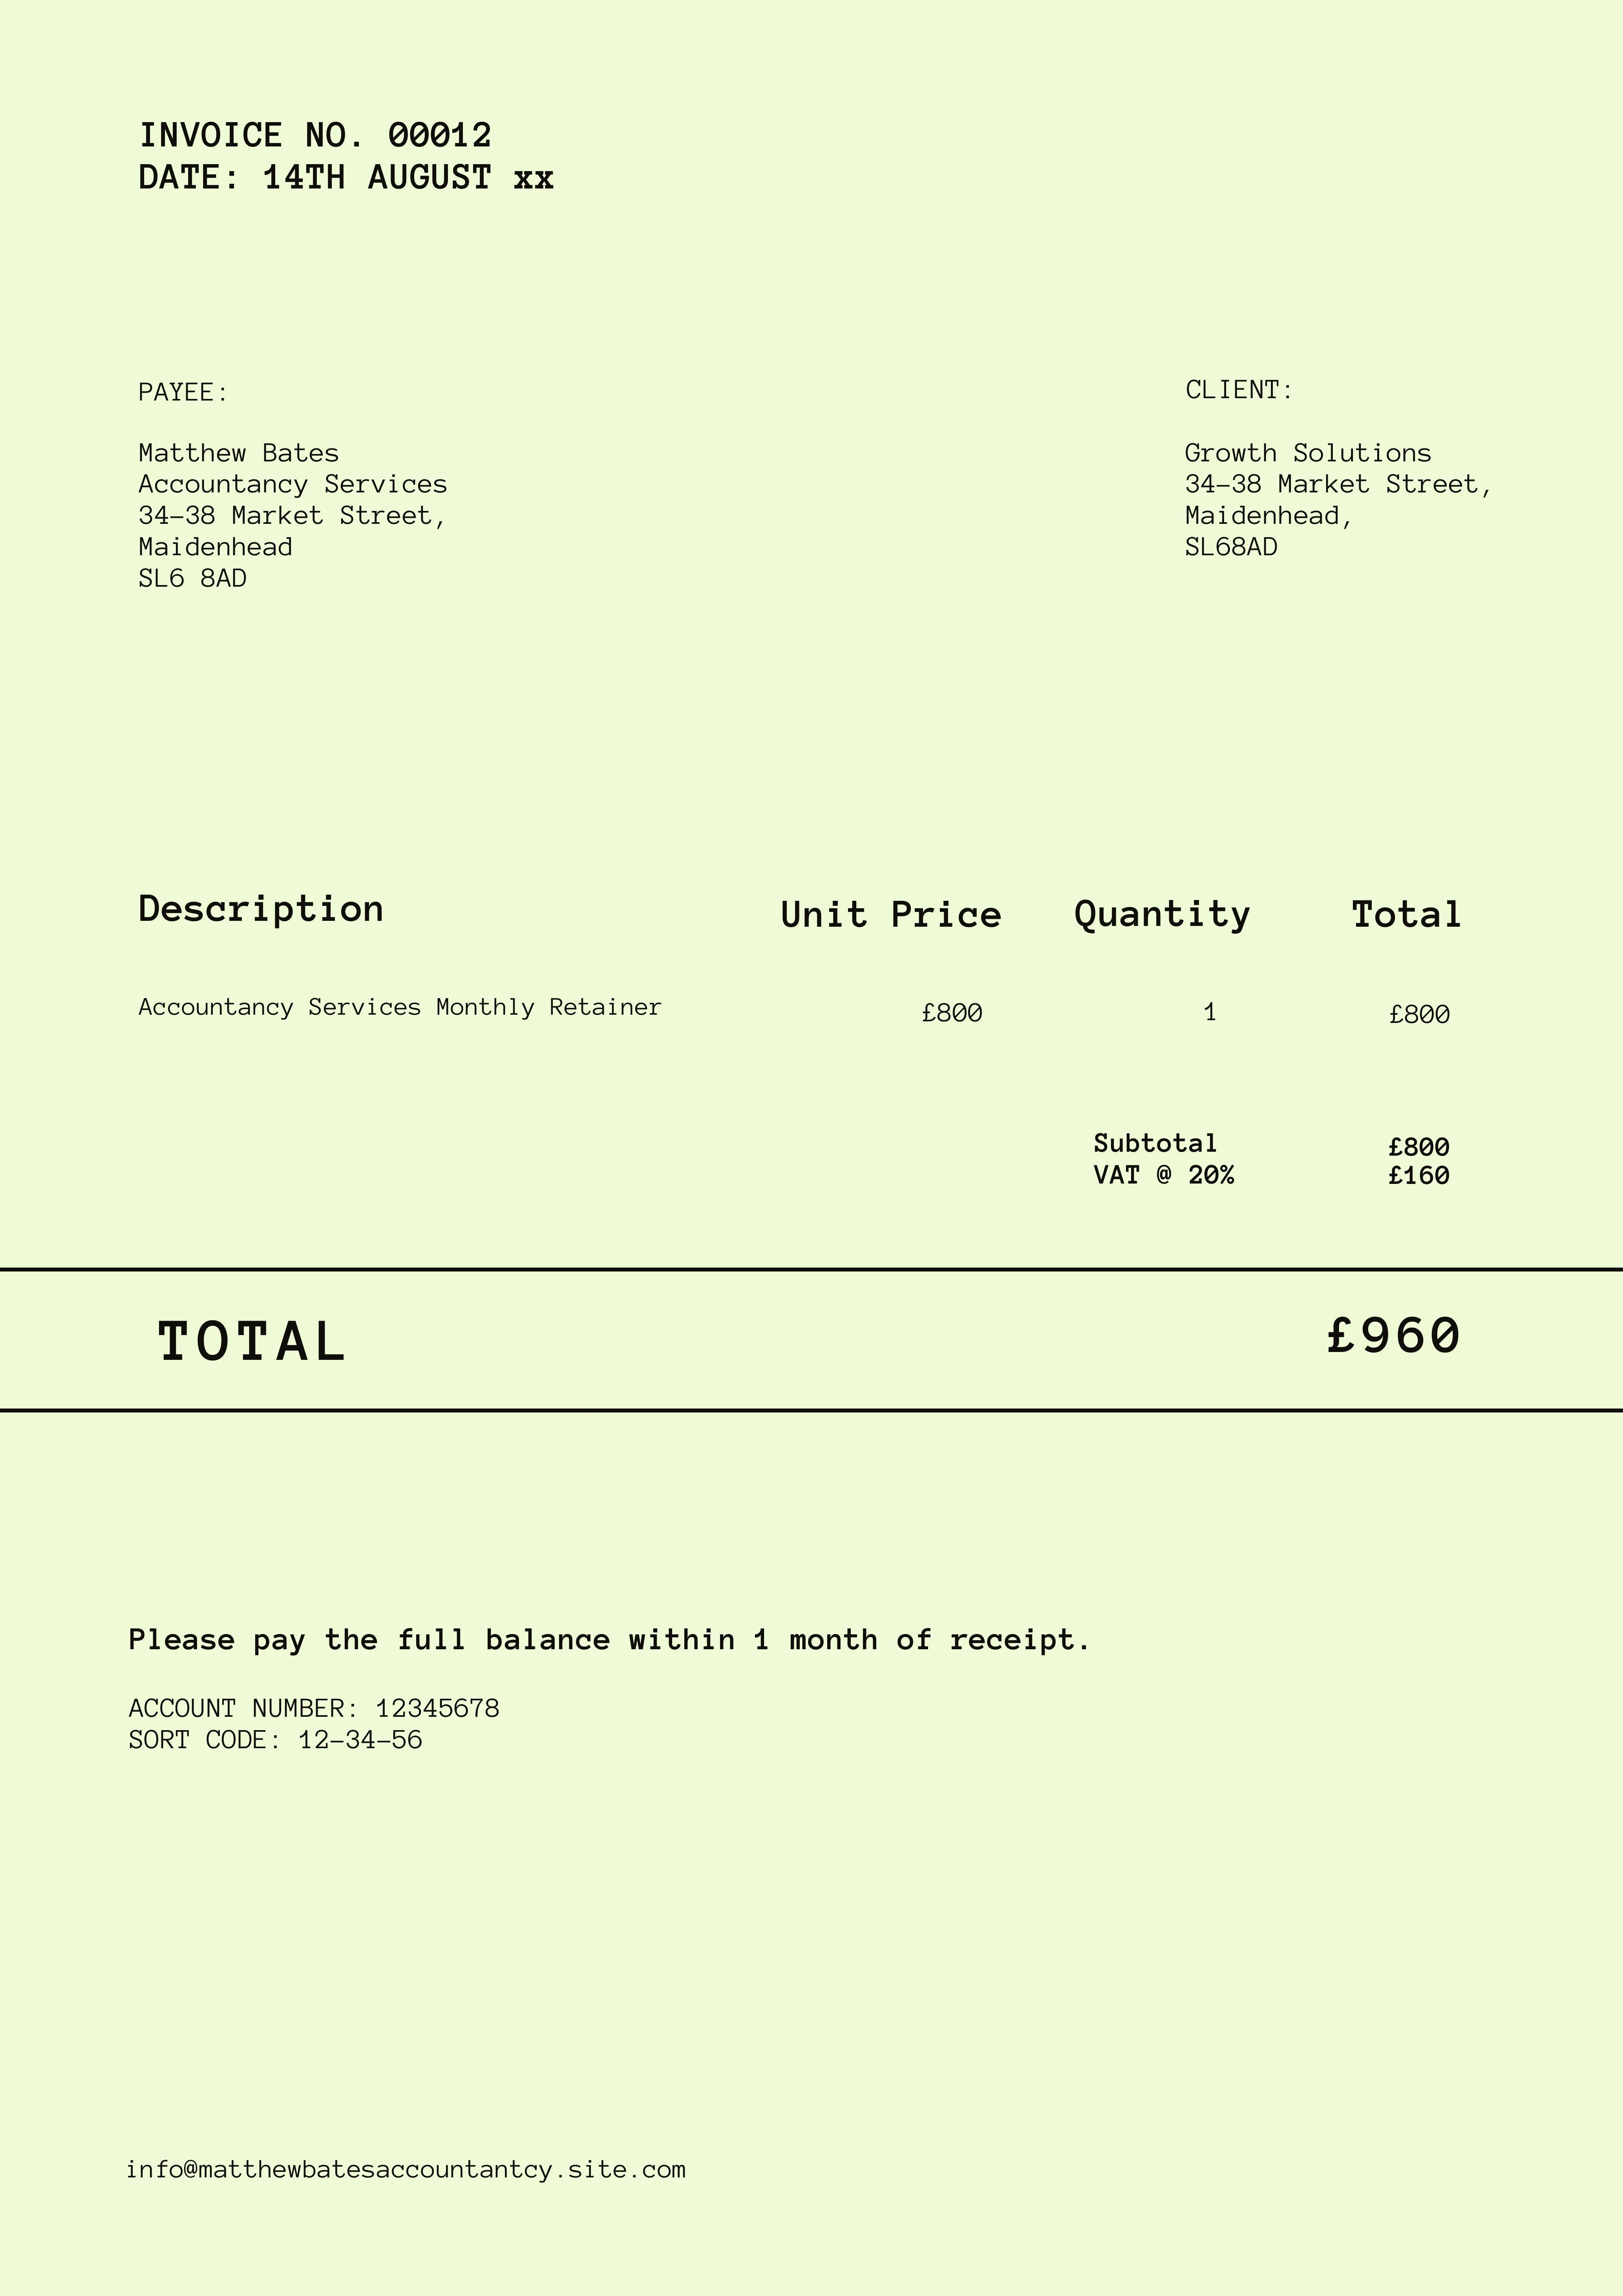ROI: (118, 1108, 1477, 1460), (130, 889, 1472, 1051), (123, 1607, 1100, 1785), (132, 367, 471, 599), (1175, 365, 1498, 564), (126, 107, 573, 211)
